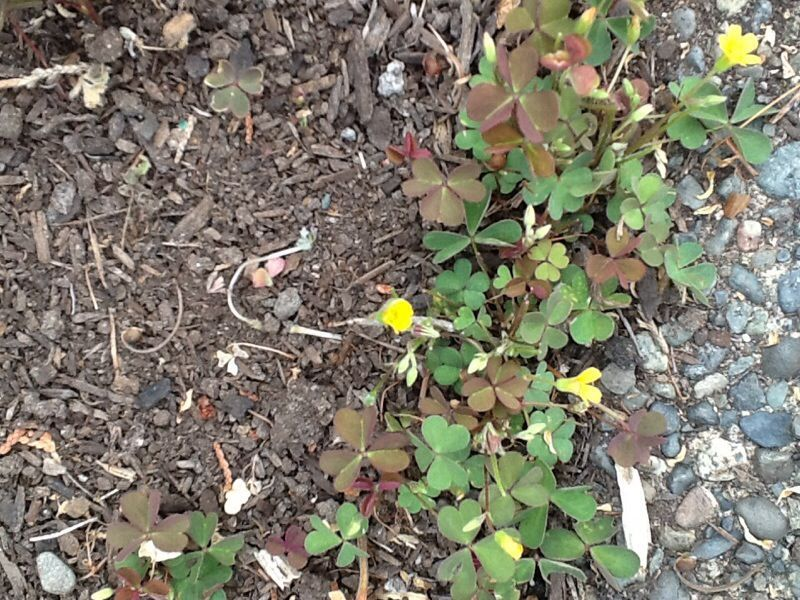oxalis: (420, 105, 668, 600)
